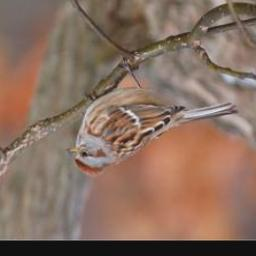Sparrow: (63, 57, 239, 176)
